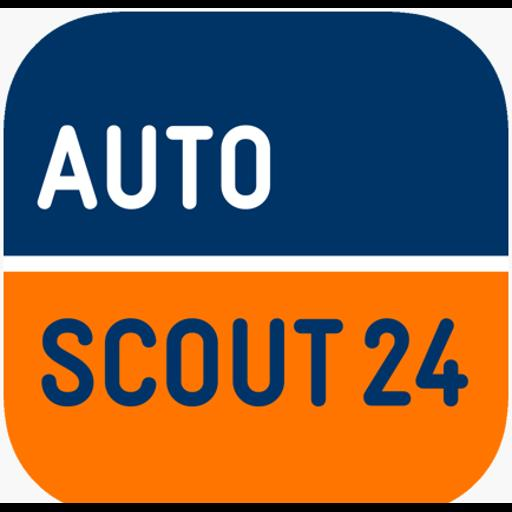AutoScout24: (0, 8, 512, 503)
